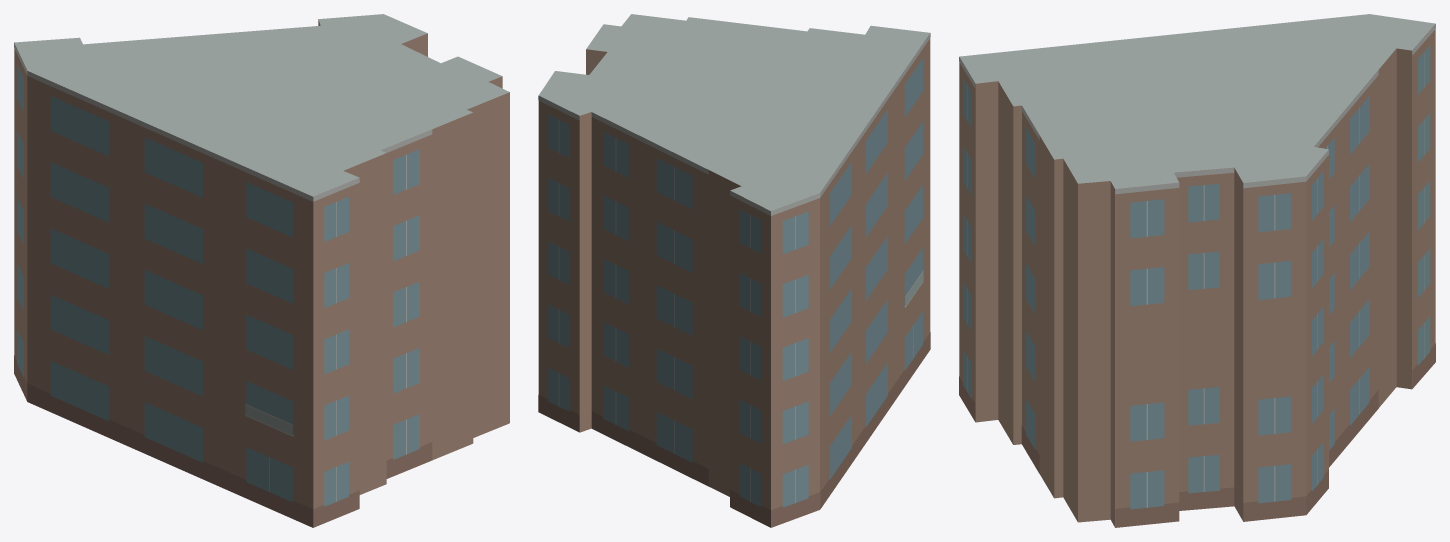
Rendered from survey-upis-32501326.glb.
3 renders of one model, left to right at view 1: azimuth 30°, elevation 25°; view 2: azimuth 150°, elevation 25°; view 3: azimuth 270°, elevation 25°, orthographic. The views are drawn at different scales.
Parts seen in each view (by area): view 1: survey-upis-32501326.tmp; view 2: survey-upis-32501326.tmp; view 3: survey-upis-32501326.tmp.
Boxes of the visible parts, x1,y1,x2,y2 form: survey-upis-32501326.tmp: [14, 14, 509, 527]; survey-upis-32501326.tmp: [538, 14, 930, 527]; survey-upis-32501326.tmp: [959, 14, 1435, 527].
Bounding box in the file's own units: 17.58 × 15.85 × 20.22.
